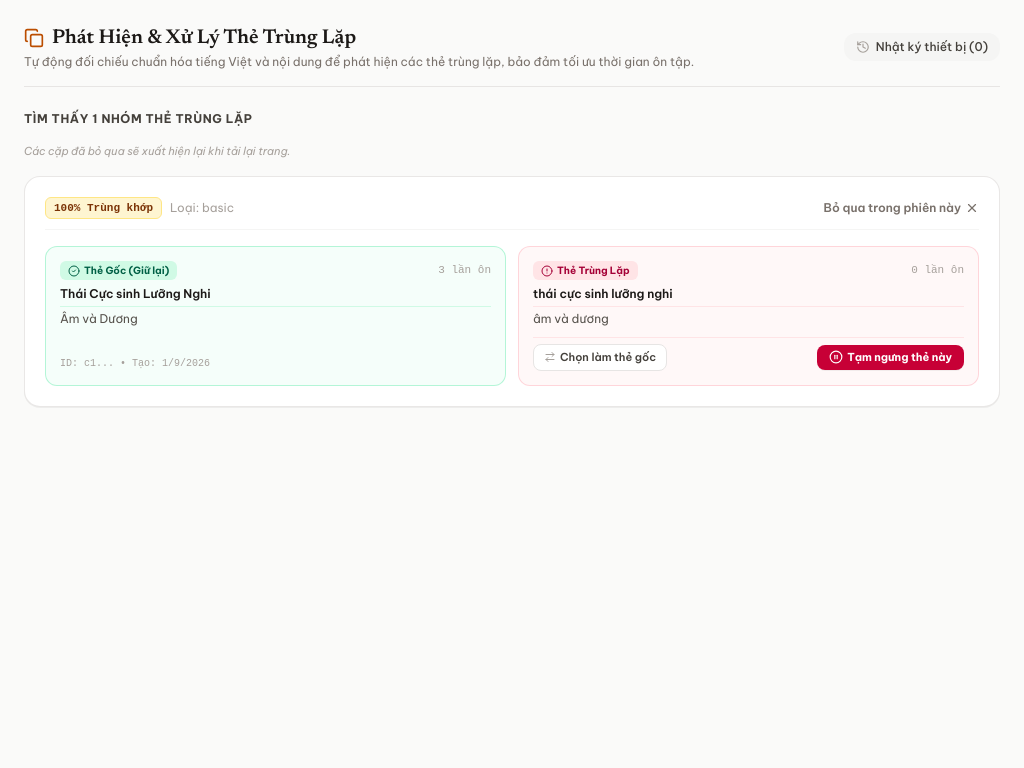
Test case: Phase F6.9: DuplicateDetectionDashboard Component › opens confirmation modal and suspends duplicate card
The image size is (1024, 768).
Expected: the text "Phát Hiện & Xử Lý Thẻ Trùng Lặp" is shown, [52,24,356,52]
Click the button "Tạm ngưng thẻ này".
click(891, 357)  # box [817,345,964,370]
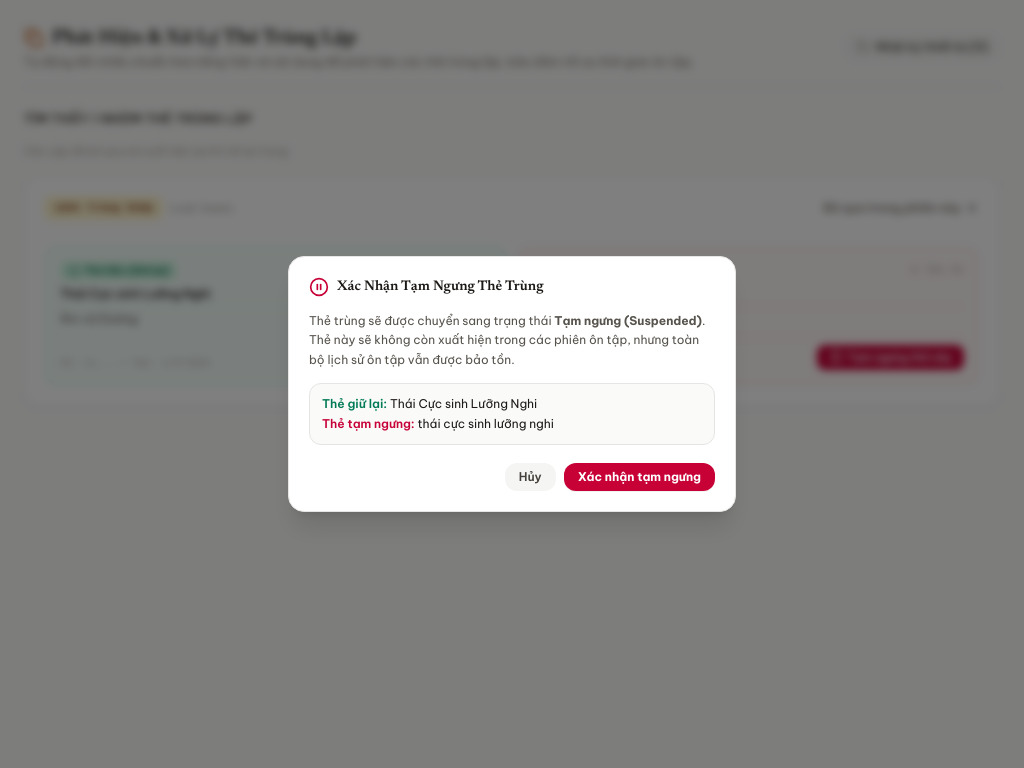
Now the heading "Xác Nhận Tạm Ngưng Thẻ Trùng" is shown, box [337,277,544,297]
Now the text "Thẻ trùng sẽ được chuyển sang trạng thái" is shown, box [309,313,554,328]
// Confirm action
Click the button with test id "btn-confirm-suspend-action".
click(639, 477)  # box [564,463,715,491]
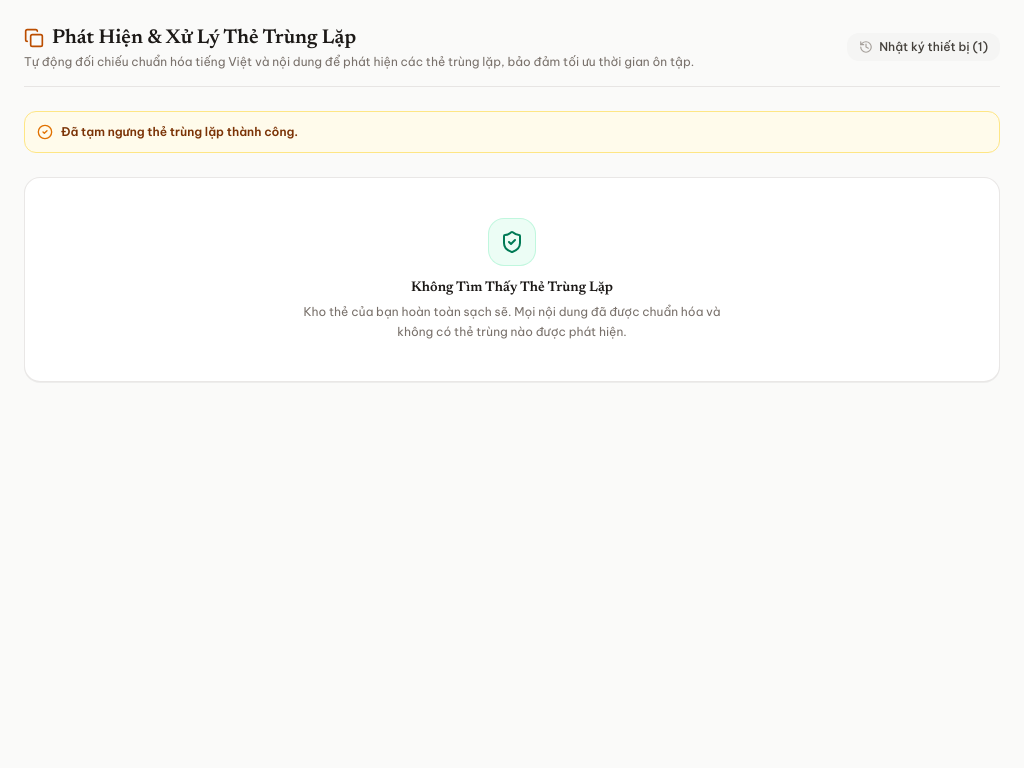
Now the text "Đã tạm ngưng thẻ trùng lặp thành công." is shown, box [61,124,298,140]
